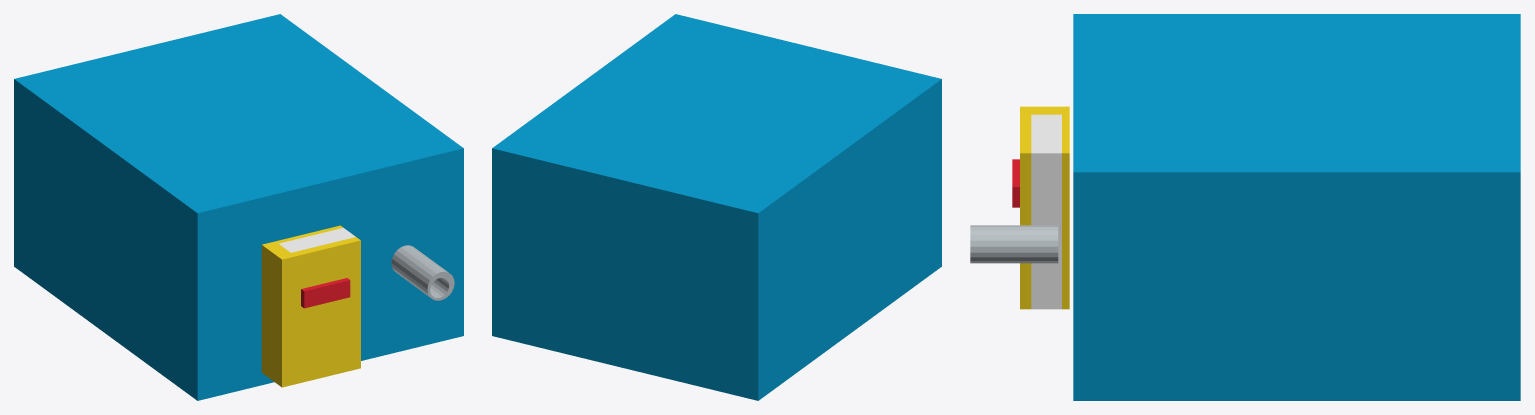
File: tinker.obj
3 views of the same model, side by side, from view 1: azimuth 30°, elevation 25°; view 2: azimuth 150°, elevation 25°; view 3: azimuth 270°, elevation 25° (orthographic). The views are drawn at different scales.
Visible parts, largest first — view 1: group_0_40919, group_0_16768282, group_0_12568524, group_0_15277357, group_0_16448250; view 2: group_0_40919; view 3: group_0_40919, group_0_16448250, group_0_16768282, group_0_12568524.
Boxes of the visible parts, x1,y1,x2,y2 form: group_0_40919: (14,14,463,400); group_0_16768282: (261,225,360,387); group_0_12568524: (391,245,454,300); group_0_15277357: (301,278,350,308); group_0_16448250: (279,228,355,252); group_0_40919: (492,14,941,400); group_0_40919: (1073,14,1520,400); group_0_16448250: (1031,114,1061,309); group_0_16768282: (1020,106,1069,309); group_0_12568524: (970,225,1058,263).
Size of the model in its own units: 98 by 75 by 144.
